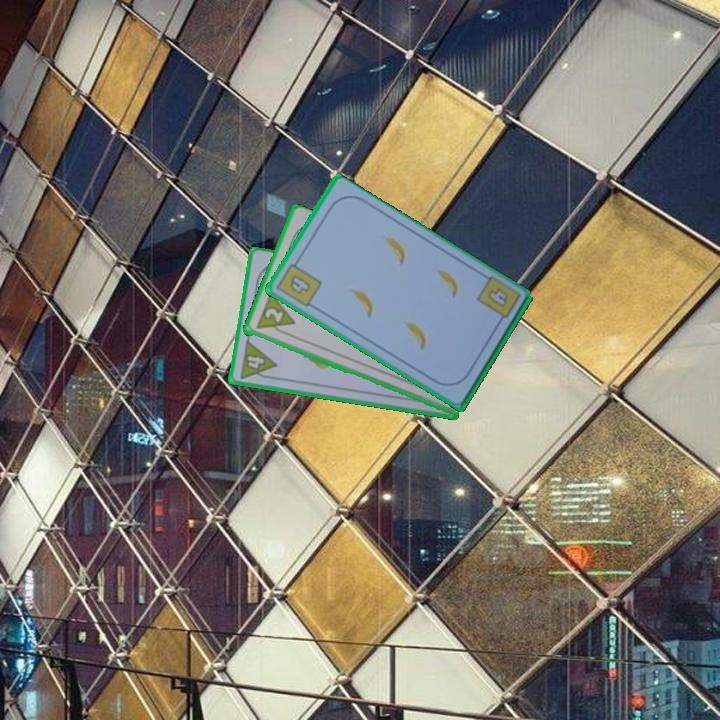2p: (261, 304, 286, 326)
4b: (273, 255, 325, 310), (483, 284, 511, 311)
4p: (236, 337, 279, 383)
